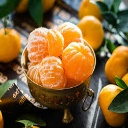orange: (1, 26, 22, 65)
